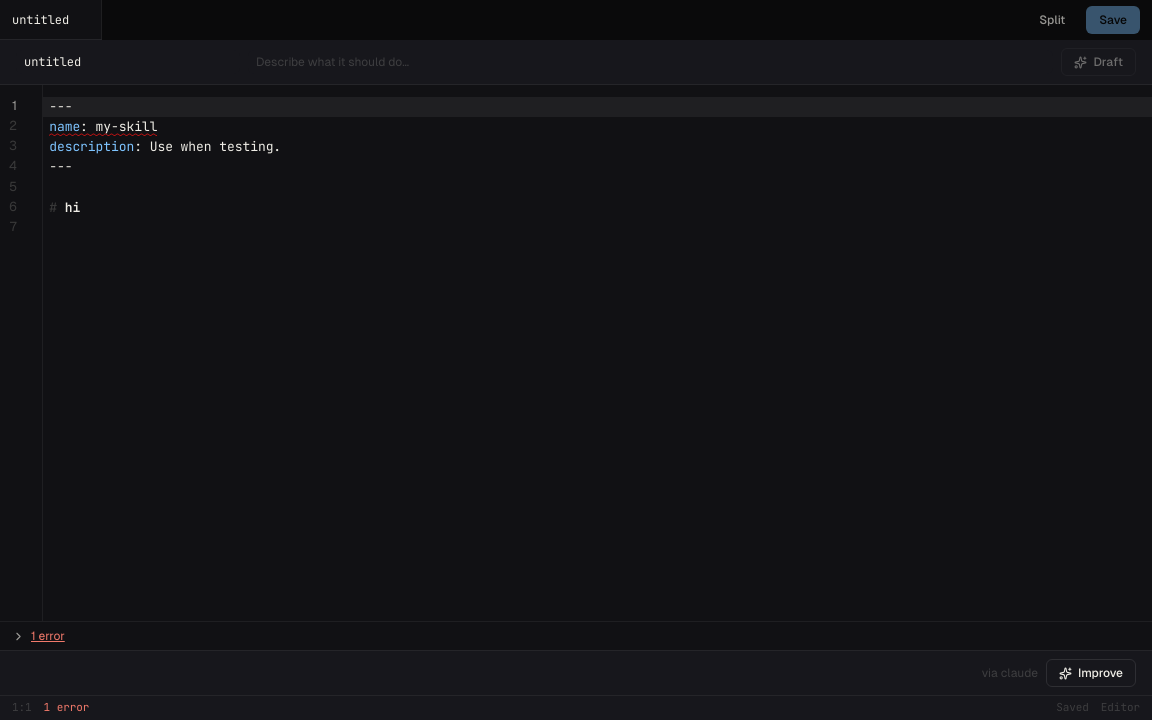
Test: tab labels › follows a create-mode rename in the strip
Replace the text in the field named "name" with "renamed" at x=128, y=62, box [16,50,240,74]
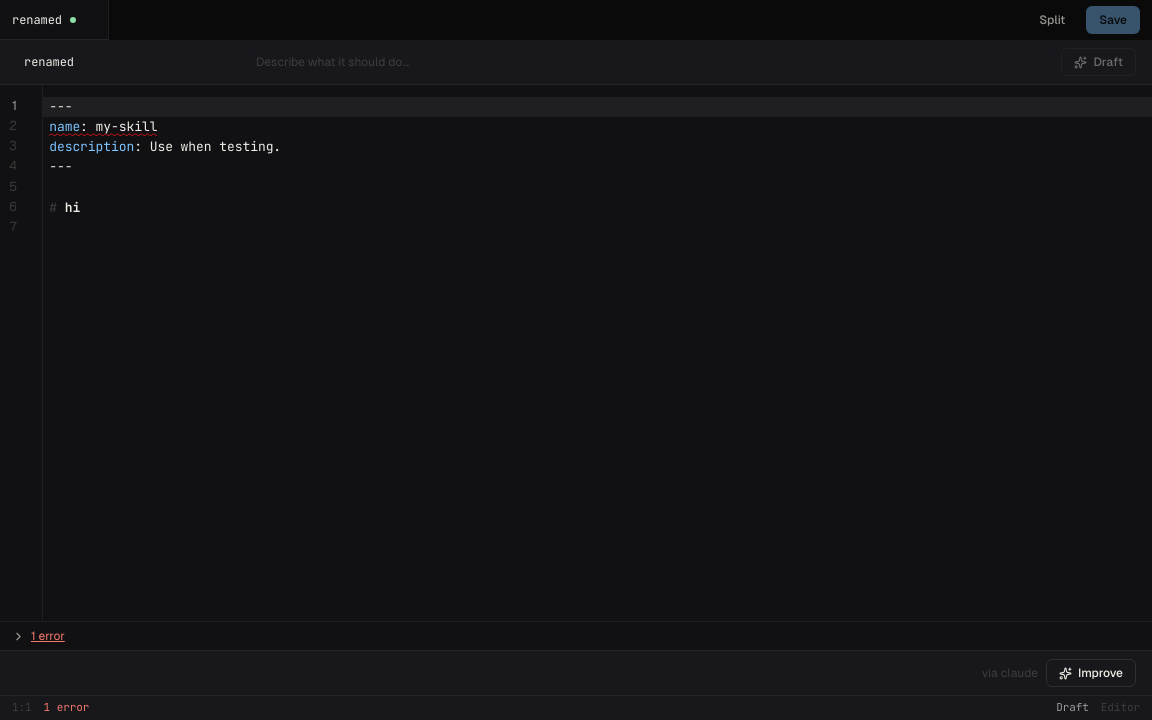
expect the tab "renamed" is shown: met, box [0,0,109,39]
